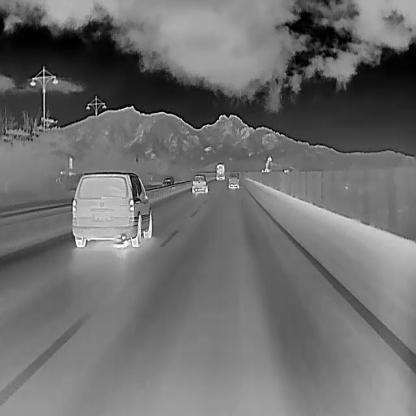car: (70, 169, 152, 247), (190, 174, 208, 192), (227, 171, 239, 188), (161, 177, 175, 190), (215, 163, 225, 180)
